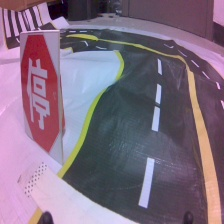stop: (19, 30, 66, 165)
